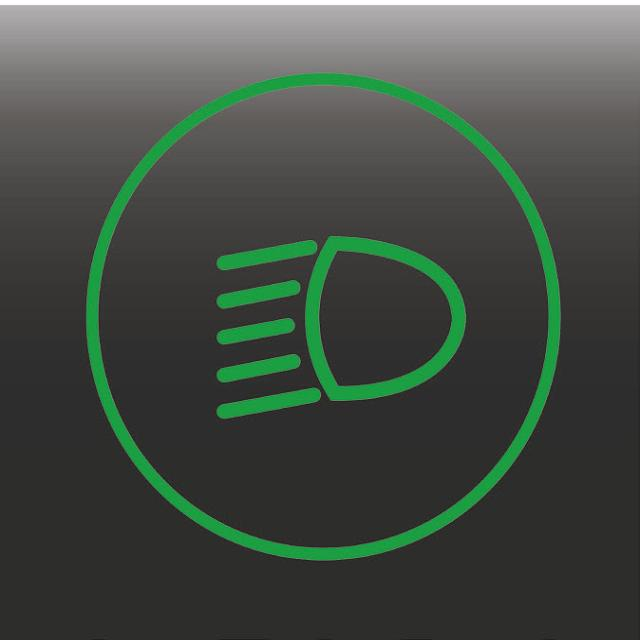kontrolka: (189, 212, 481, 441)
